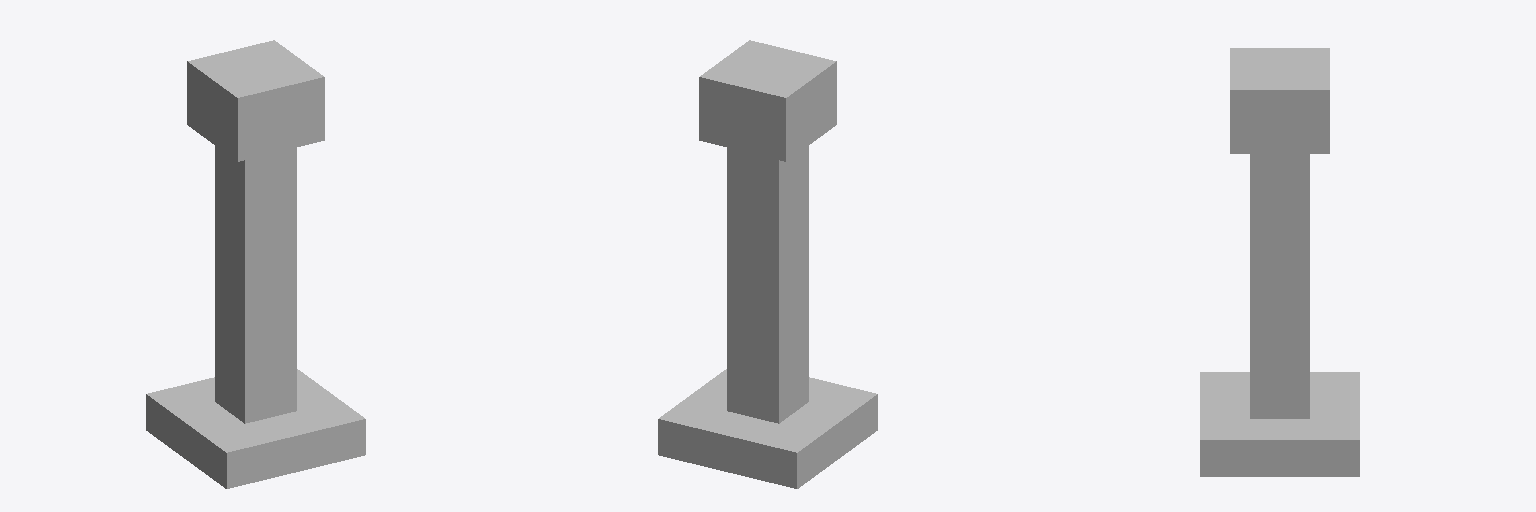
File: pestle.obj
3 views of the same model, side by side, from view 1: azimuth 30°, elevation 25°; view 2: azimuth 150°, elevation 25°; view 3: azimuth 270°, elevation 25° (orthographic).
Bounding box in the file's own units: 0.25 × 0.6406 × 0.25.